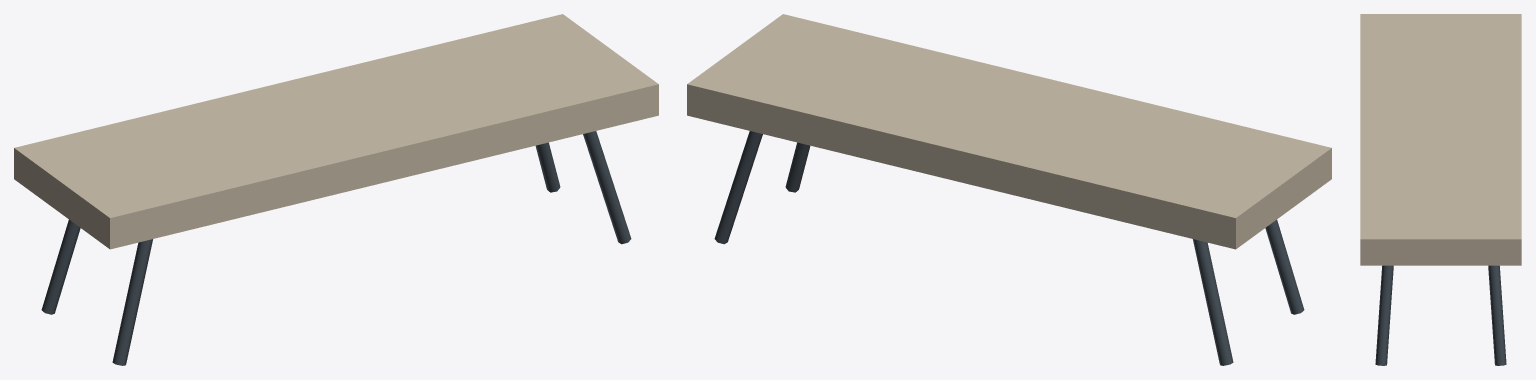
Rendered from bench-2.glb.
3 views of the same model, side by side, from view 1: azimuth 30°, elevation 25°; view 2: azimuth 150°, elevation 25°; view 3: azimuth 270°, elevation 25° (orthographic). The views are drawn at different scales.
Visible parts, largest first — view 1: bench:2:editor; view 2: bench:2:editor; view 3: bench:2:editor.
Boxes of the visible parts, left/top/right/bottom form: bench:2:editor: left=14, top=14, right=658, bottom=365; bench:2:editor: left=687, top=14, right=1331, bottom=365; bench:2:editor: left=1360, top=14, right=1521, bottom=365.
Bounding box in the file's own units: 1.65 × 0.4649 × 0.5.
